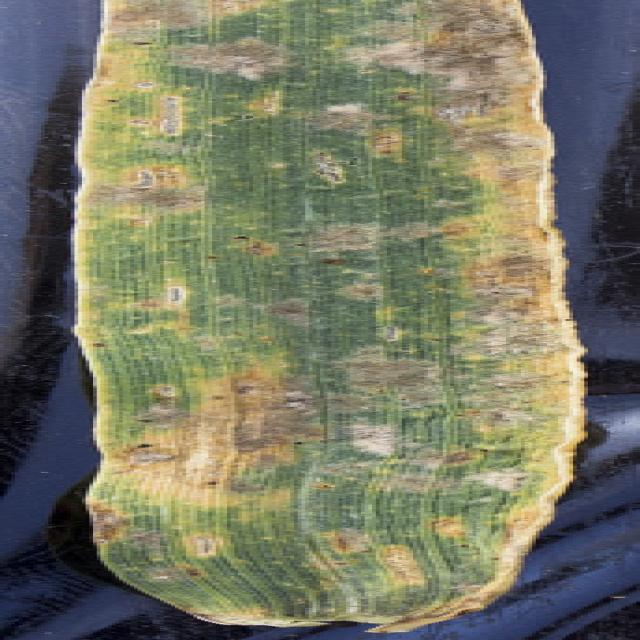wheat-powdery-mildew: (337, 422, 412, 461), (334, 41, 410, 75), (458, 467, 537, 492)
